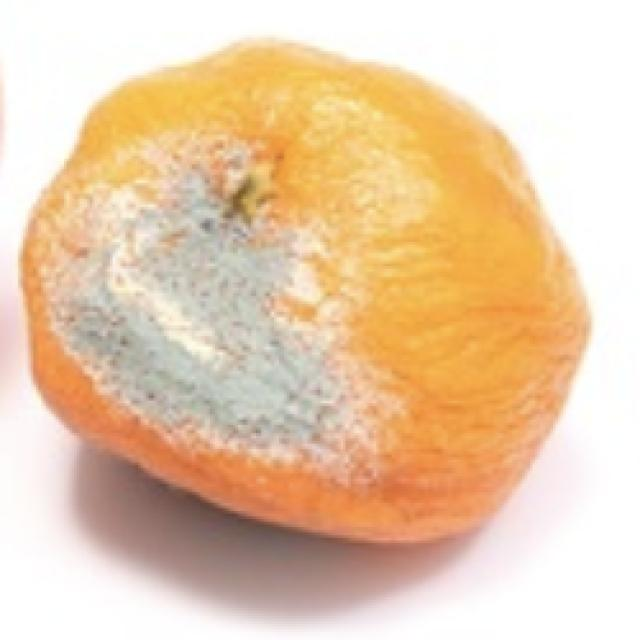sangat_busuk: (17, 35, 593, 567)
